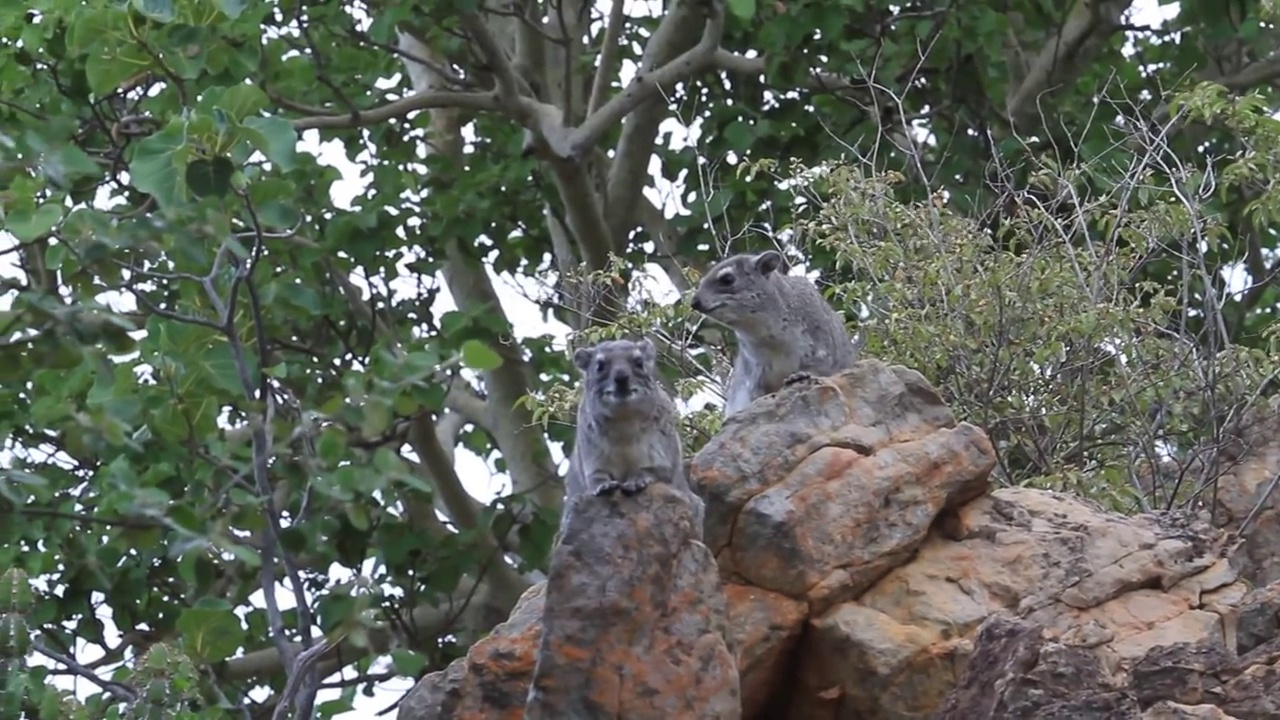Rock Hyrex: (689, 248, 853, 422), (564, 336, 694, 509)
